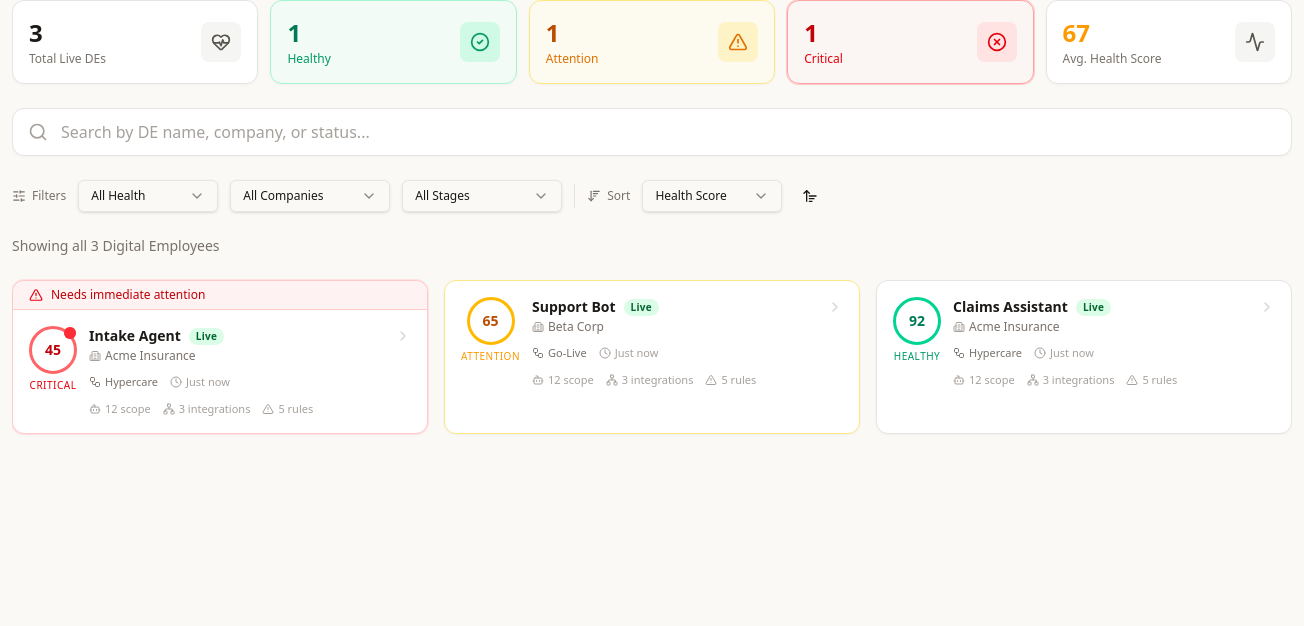
Test: SupportDashboardClient › shows empty state when no DEs match
The width and height of the screenshot is (1304, 626).
Type "nonexistent" into the field with placeholder "Search by DE name, company, or status..." at coordinates (652, 132), box [12,108,1292,156]
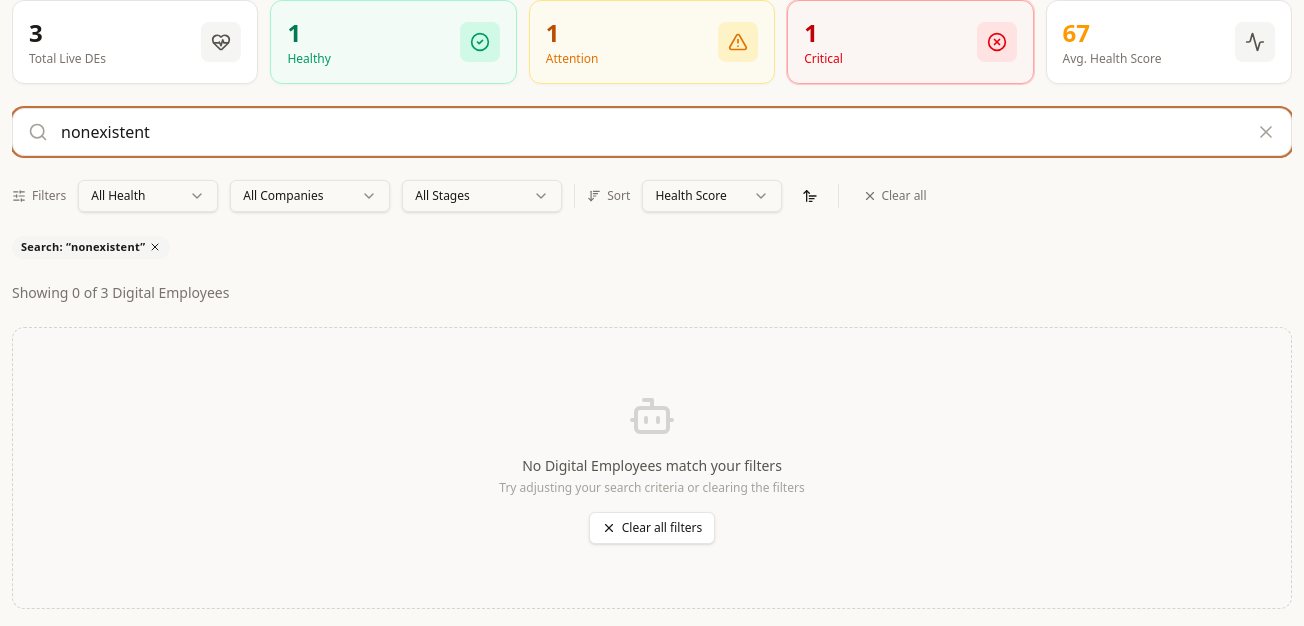
Now the text "No Digital Employees match your filters" is shown, box [522,456,782,474]
